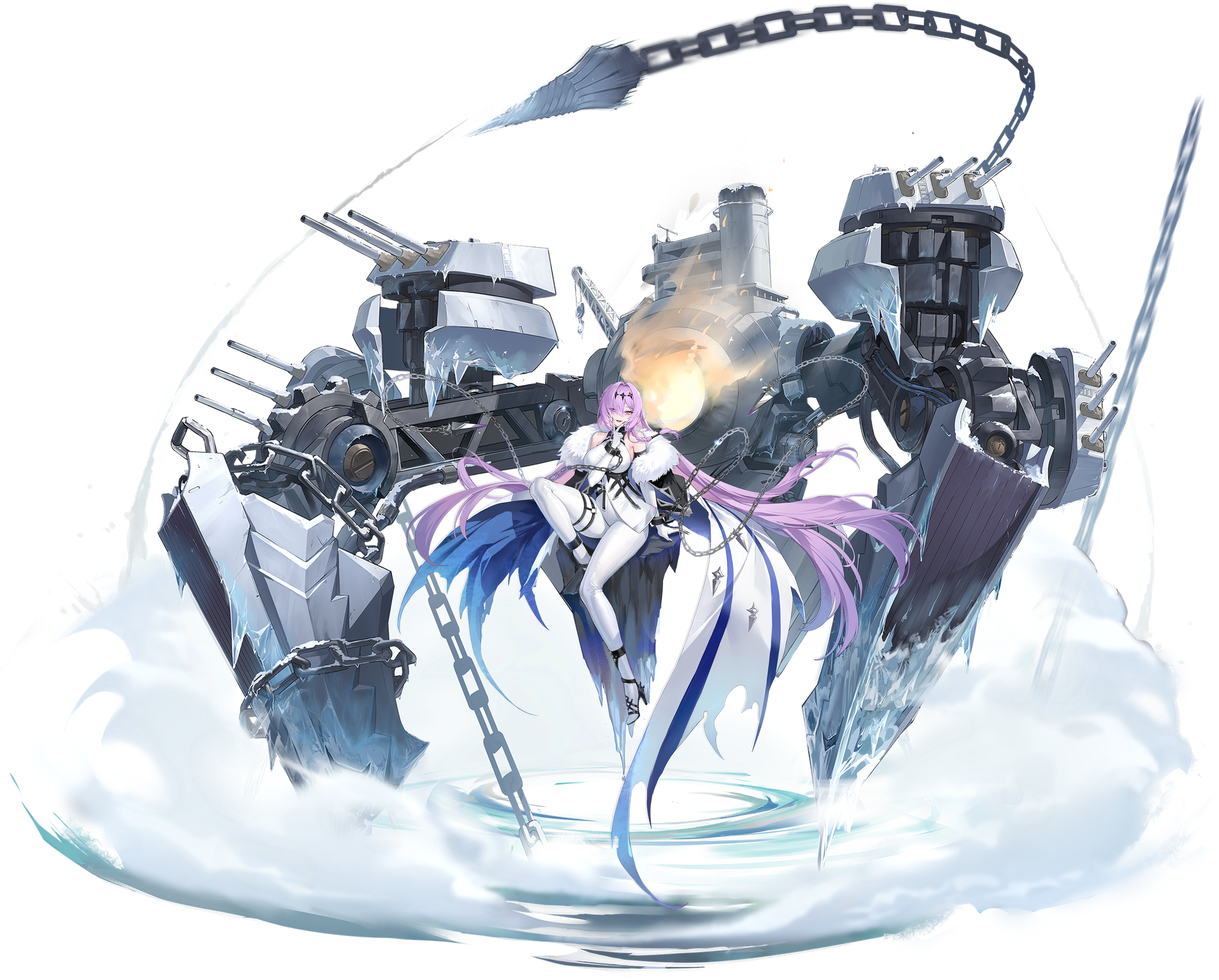person: (437, 339, 805, 869)
